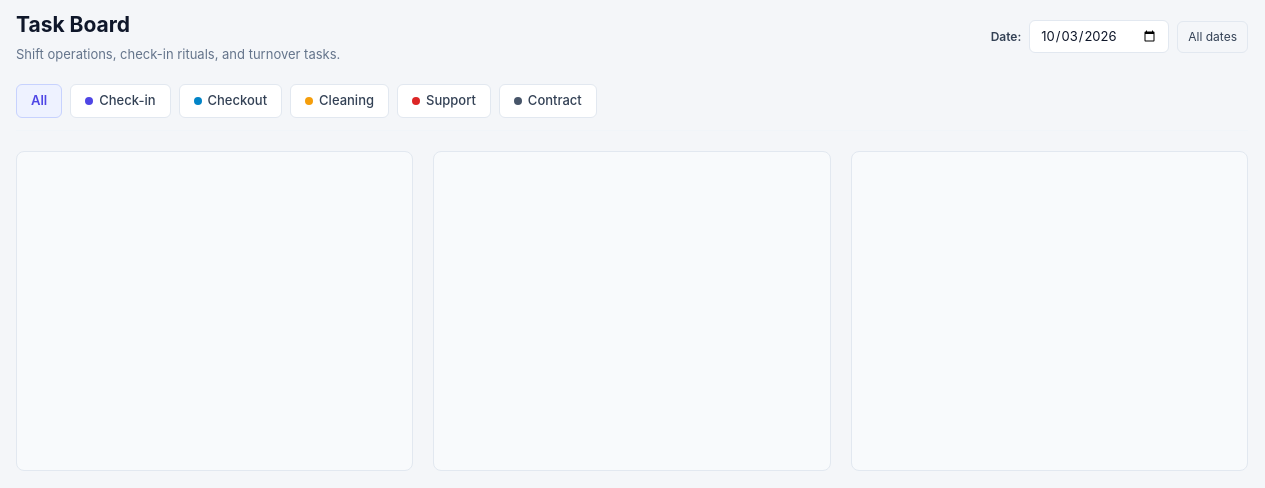
Story 3.2: Kanban Task Board › renders "Nothing here" empty state tile on empty columns
Step 1. Click the button with test id "all-dates-btn" → (1213, 36), box x1=1177 y1=20 x2=1248 y2=52
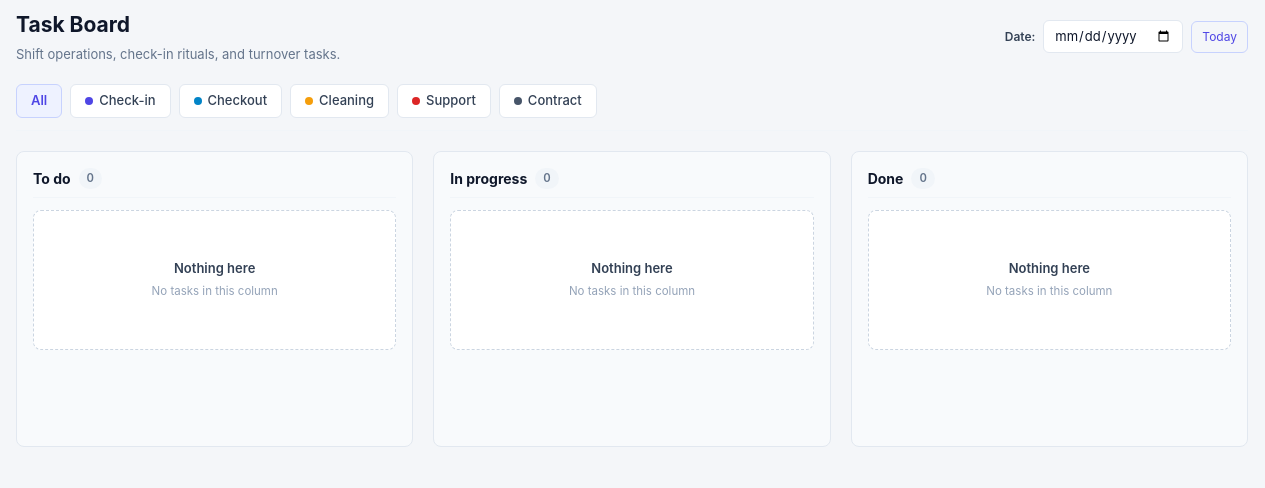
expect the element with test id "empty-column-todo" is shown: met, box x1=33 y1=210 x2=396 y2=350
expect the element with test id "empty-column-in_progress" is shown: met, box x1=450 y1=210 x2=814 y2=350
expect the element with test id "empty-column-done" is shown: met, box x1=868 y1=210 x2=1231 y2=350
